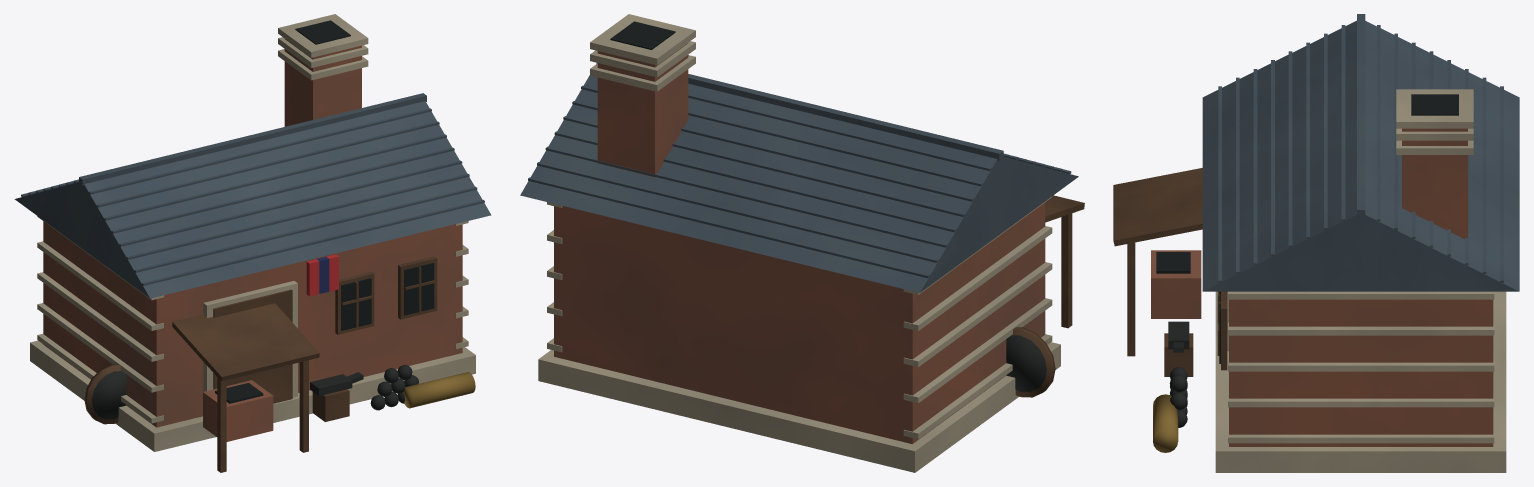
Rendered from foundry_br.glb.
The picture shows the model from 3 angles, left to right: view 1: azimuth 30°, elevation 25°; view 2: azimuth 150°, elevation 25°; view 3: azimuth 270°, elevation 25°; orthographic projection. The views are drawn at different scales.
Visible parts, largest first — view 1: foundry_br; view 2: foundry_br; view 3: foundry_br.
Boxes of the visible parts, box(x1,y1,x2,y2) form: foundry_br: box(14, 14, 491, 472); foundry_br: box(520, 14, 1084, 472); foundry_br: box(1113, 14, 1519, 472).
Bounding box in the file's own units: 9.29 × 6.99 × 7.69.
Materials: 1 (1 with a texture image).
